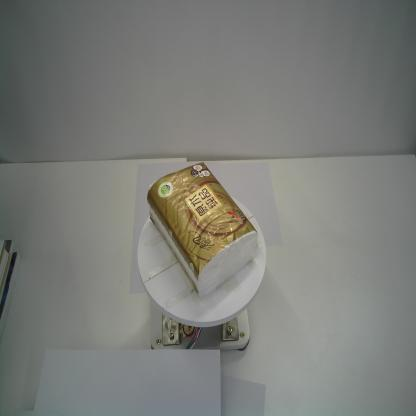Tissue: (147, 161, 257, 298)
